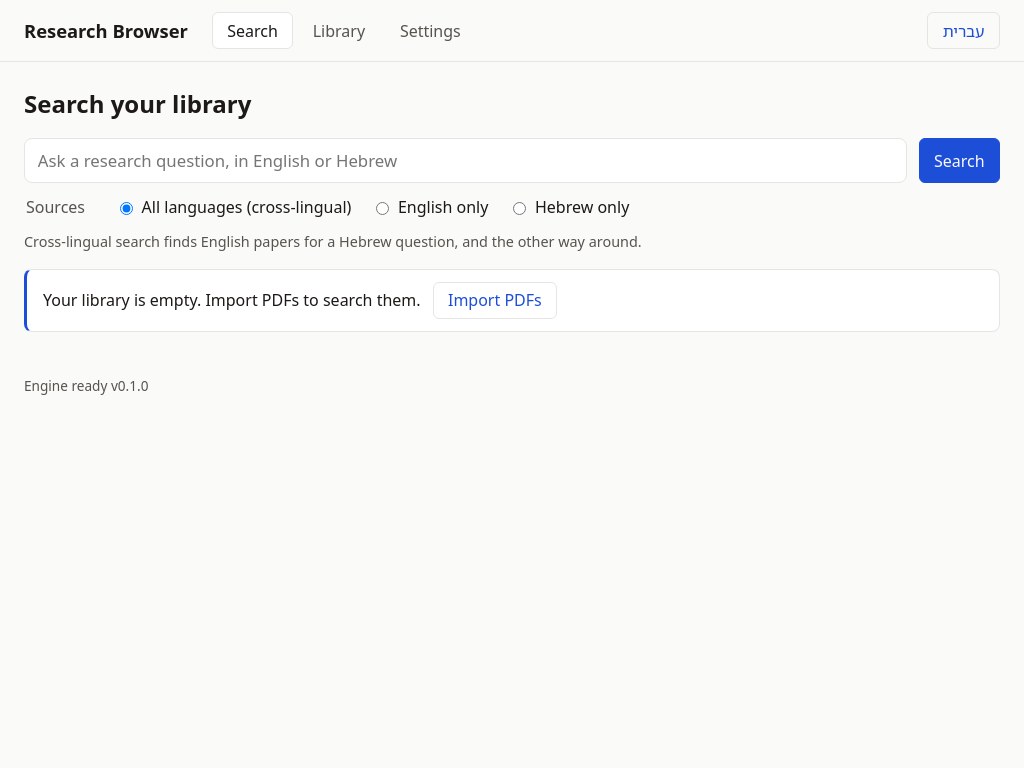
Test case: App › opens on search and navigates between views
The width and height of the screenshot is (1024, 768).
Expected: the text "Engine ready" is shown, [24,376,107,395]
Expected: the heading "Search your library" is shown, [24,87,251,120]
Click the button "Library".
click(339, 31)  # box [297,12,380,49]
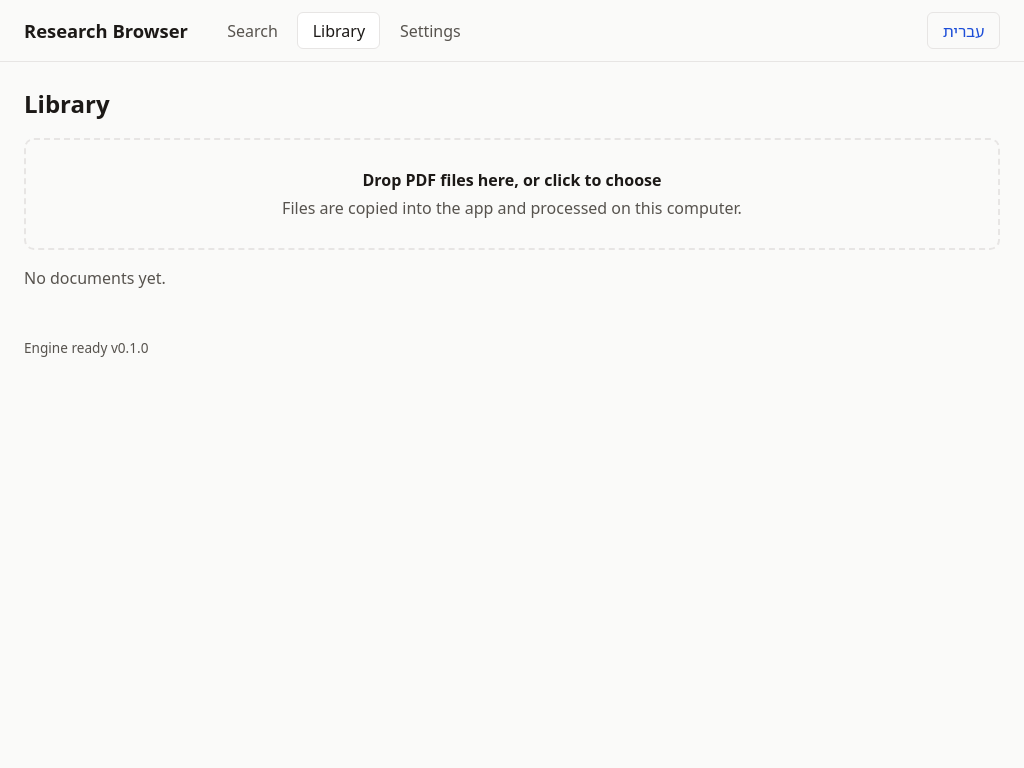
Expected: the heading "Library" is shown, [24,87,110,120]
Click the button "Settings".
click(430, 31)  # box [384,12,476,49]
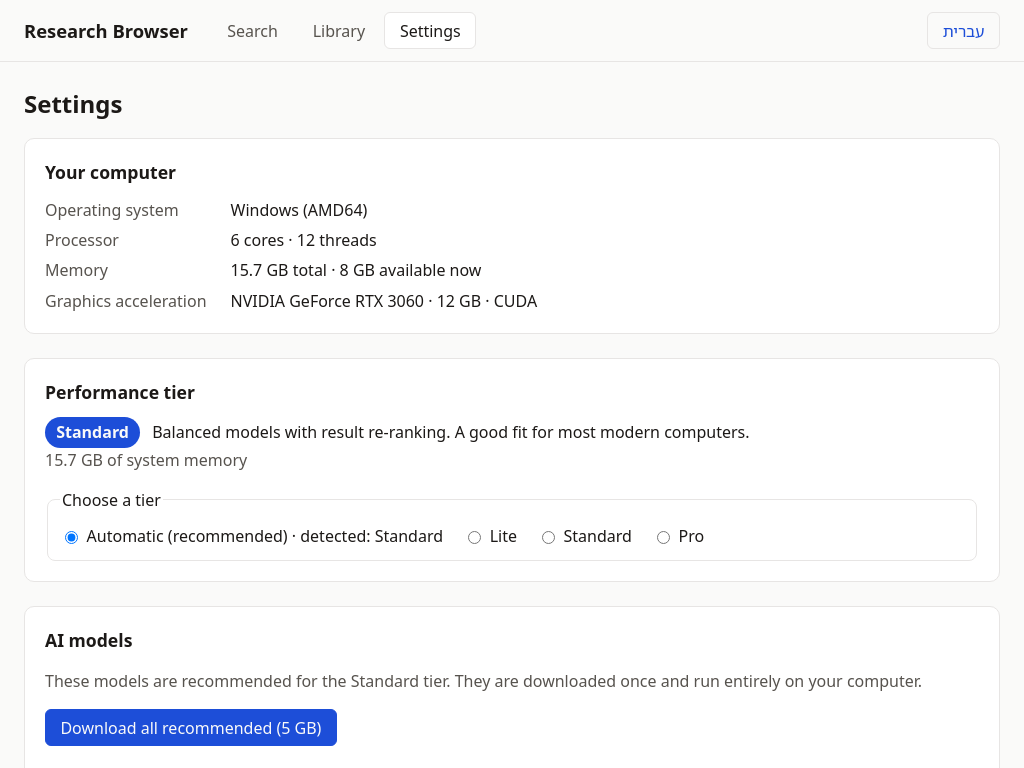
Expected: the heading "Settings" is shown, [24,87,122,120]
